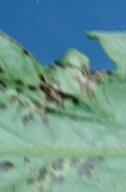Tomato leaf bacterial spot: (0, 13, 126, 192)
